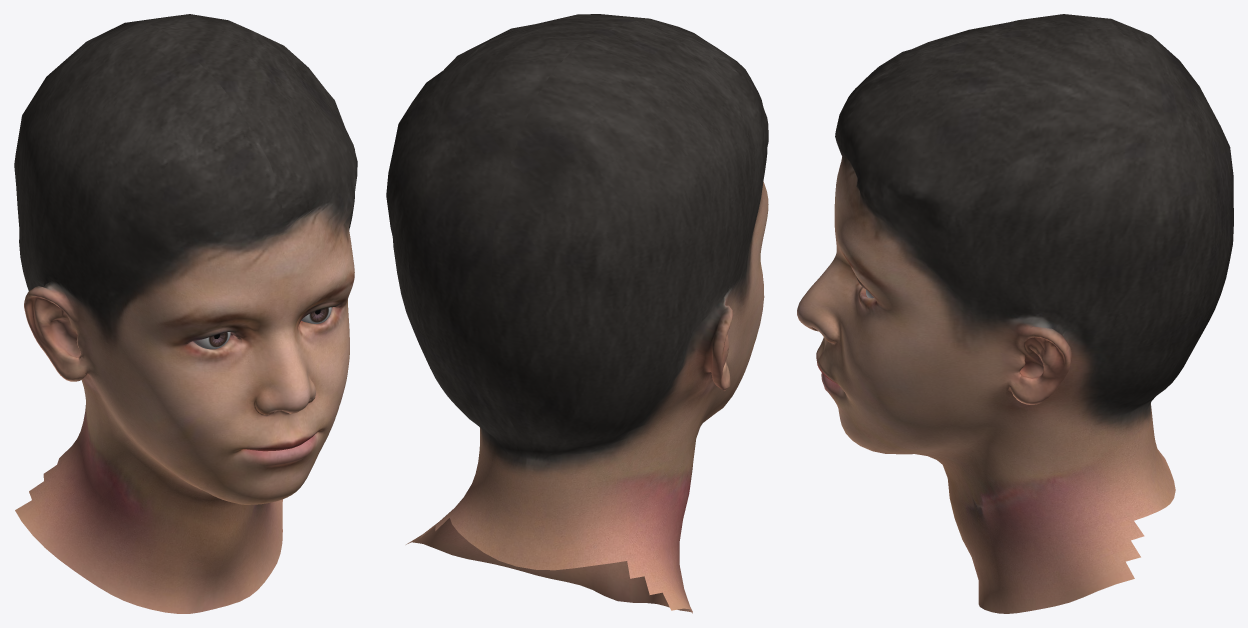
The model's file is chu-kb.glb.
The picture shows the model from 3 angles, left to right: view 1: azimuth 30°, elevation 25°; view 2: azimuth 150°, elevation 25°; view 3: azimuth 270°, elevation 25°; orthographic projection. The views are drawn at different scales.
Parts seen in each view (by area): view 1: kb-head; view 2: kb-head; view 3: kb-head.
Part boxes in pixels (box(x1,y1,x2,y2)): kb-head: box(14, 14, 357, 613); kb-head: box(386, 14, 768, 613); kb-head: box(797, 14, 1233, 613).
Bounding box in the file's own units: 0.1889 × 0.3381 × 0.2364.
Materials: 3 (3 with a texture image).
